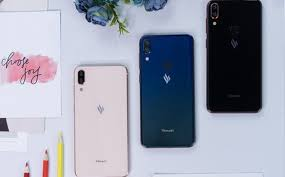vsmart: (70, 60, 133, 177), (135, 33, 198, 149), (203, 1, 266, 116)
